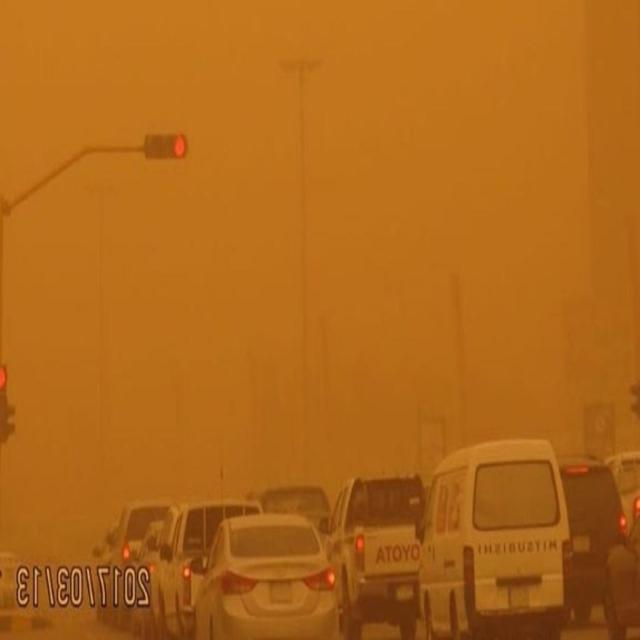Car: (188, 512, 345, 640)
Truck: (318, 470, 448, 640), (157, 496, 273, 640)
Van: (410, 432, 576, 640)
